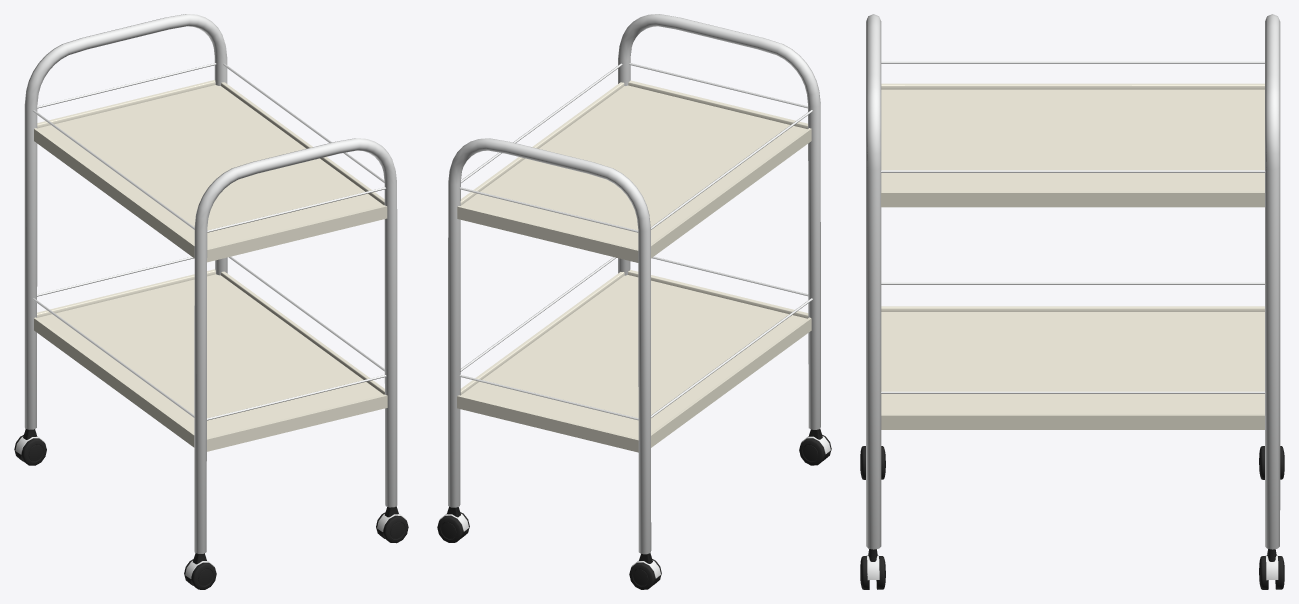
File: Surgery_Equipmet_trolly.fbx
The picture shows the model from 3 angles, left to right: view 1: azimuth 30°, elevation 25°; view 2: azimuth 150°, elevation 25°; view 3: azimuth 270°, elevation 25°; orthographic projection. The views are drawn at different scales.
Visible parts, largest first — view 1: Surgery_Equipmet_trolly; view 2: Surgery_Equipmet_trolly; view 3: Surgery_Equipmet_trolly.
Part boxes in pixels (x1,y1,x2,y2): Surgery_Equipmet_trolly: [14, 14, 408, 589]; Surgery_Equipmet_trolly: [437, 14, 831, 589]; Surgery_Equipmet_trolly: [860, 14, 1284, 589].
Size of the model in its own units: 51.42 by 92.79 by 73.83.
